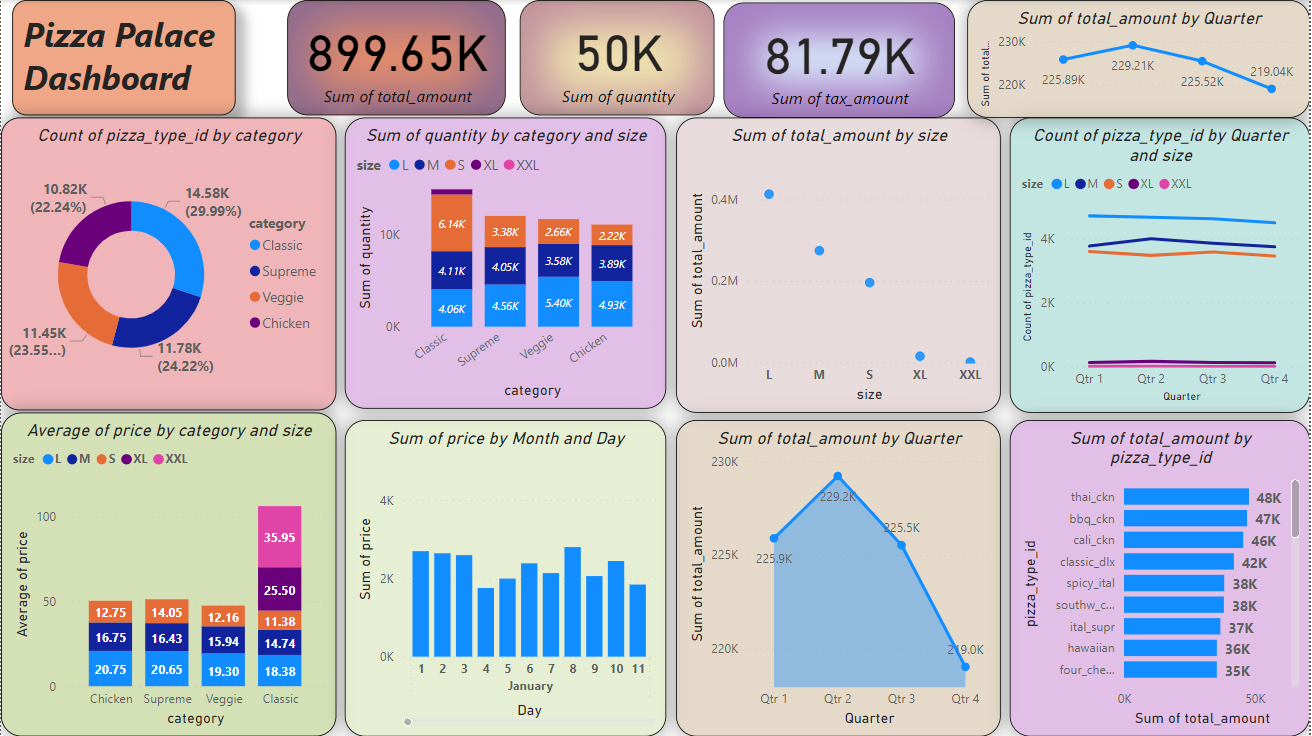

The dashboard page shown, as its layout file describes it:
{"tool":"powerbi","page":{"name":"Page 1","canvas":[1280,720],"ordinal":0},"visuals":[{"type":"textbox","box":[11,0,218.2,112.5],"z":0},{"type":"card","fields":{"Values":["Sum(Order_Details.quantity)"]},"box":[507.3,0,190.7,112.5],"z":1000},{"type":"card","fields":{"Values":["Sum(Order_Details.total_amount)"]},"box":[279.9,0,213.9,112.5],"z":2000},{"type":"donutChart","fields":{"Y":["CountNonNull(Order_Details.pizza_type_id)"],"Category":["Order_Details.category"]},"box":[0,114.9,327.6,286],"z":3000},{"type":"columnChart","fields":{"Category":["Order_Details.category"],"Y":["Sum(Order_Details.quantity)"],"Series":["Order_Details.size"]},"box":[336.2,114.9,314.2,284.8],"z":4000},{"type":"scatterChart","fields":{"X":["Order_Details.size"],"Y":["Sum(Order_Details.total_amount)"]},"box":[660.1,114.9,317.8,288.5],"z":5000},{"type":"lineChart","fields":{"Category":["Order_Details.date.Variation.Date Hierarchy.Quarter"],"Series":["Order_Details.size"],"Y":["CountNonNull(Order_Details.pizza_type_id)"]},"box":[986.5,114.9,293.4,288.5],"z":6000},{"type":"areaChart","fields":{"Y":["Sum(Order_Details.total_amount)"],"Category":["Order_Details.date.Variation.Date Hierarchy.Quarter"]},"box":[660.1,410.7,317.8,309.3],"z":7000},{"type":"columnChart","fields":{"Category":["Order_Details.category"],"Series":["Order_Details.size"],"Y":["Avg(Order_Details.price)"]},"box":[0,403.4,327.6,316.6],"z":8000},{"type":"columnChart","fields":{"Category":["Order_Details.date.Variation.Date Hierarchy.Month","Order_Details.date.Variation.Date Hierarchy.Day"],"Y":["Sum(Order_Details.price)"]},"box":[336.2,410.7,314.2,309.3],"z":9000},{"type":"barChart","fields":{"Category":["Order_Details.pizza_type_id"],"Y":["Sum(Order_Details.total_amount)"]},"box":[986.5,410.7,293.4,309.3],"z":10000},{"type":"card","fields":{"Values":["Sum(Order_Details.tax_amount)"]},"box":[706.6,2.4,226.1,112.5],"z":11000},{"type":"lineChart","fields":{"Category":["Order_Details.date.Variation.Date Hierarchy.Quarter"],"Y":["Sum(Order_Details.total_amount)"]},"box":[944.9,0,334.9,114.9],"z":12000}]}

Visuals, with their boxes in screenshot pixels (x1, y1, x2, y2), scaled from the page's 1280x720 canvas onto the 1312x736 screenshot:
textbox: detection(11, 0, 235, 115)
card - Sum(Order_Details.quantity): detection(520, 0, 715, 115)
card - Sum(Order_Details.total_amount): detection(287, 0, 506, 115)
donutChart - CountNonNull(Order_Details.pizza_type_id) x Order_Details.category: detection(0, 117, 336, 410)
columnChart - Order_Details.category x Sum(Order_Details.quantity): detection(345, 117, 667, 409)
scatterChart - Order_Details.size x Sum(Order_Details.total_amount): detection(677, 117, 1002, 412)
lineChart - Order_Details.date.Variation.Date Hierarchy.Quarter x Order_Details.size: detection(1011, 117, 1311, 412)
areaChart - Sum(Order_Details.total_amount) x Order_Details.date.Variation.Date Hierarchy.Quarter: detection(677, 420, 1002, 735)
columnChart - Order_Details.category x Order_Details.size: detection(0, 412, 336, 735)
columnChart - Order_Details.date.Variation.Date Hierarchy.Month x Order_Details.date.Variation.Date Hierarchy.Day: detection(345, 420, 667, 735)
barChart - Order_Details.pizza_type_id x Sum(Order_Details.total_amount): detection(1011, 420, 1311, 735)
card - Sum(Order_Details.tax_amount): detection(724, 2, 956, 117)
lineChart - Order_Details.date.Variation.Date Hierarchy.Quarter x Sum(Order_Details.total_amount): detection(969, 0, 1311, 117)
